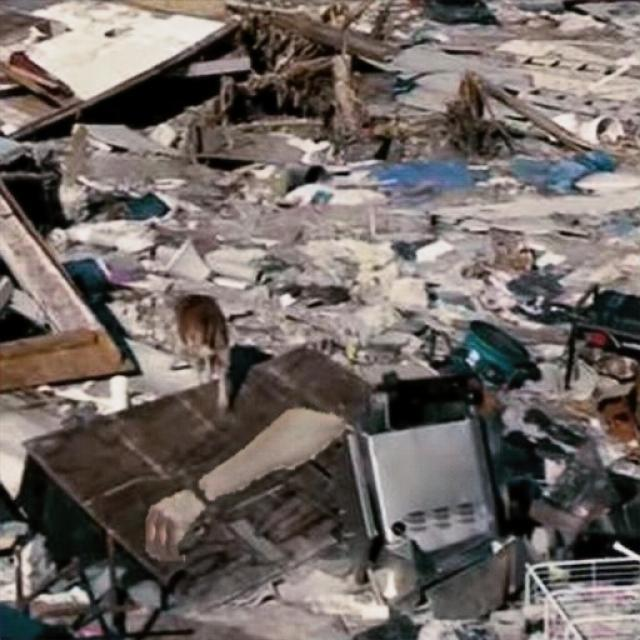Person in Rubble: (145, 408, 344, 560)
